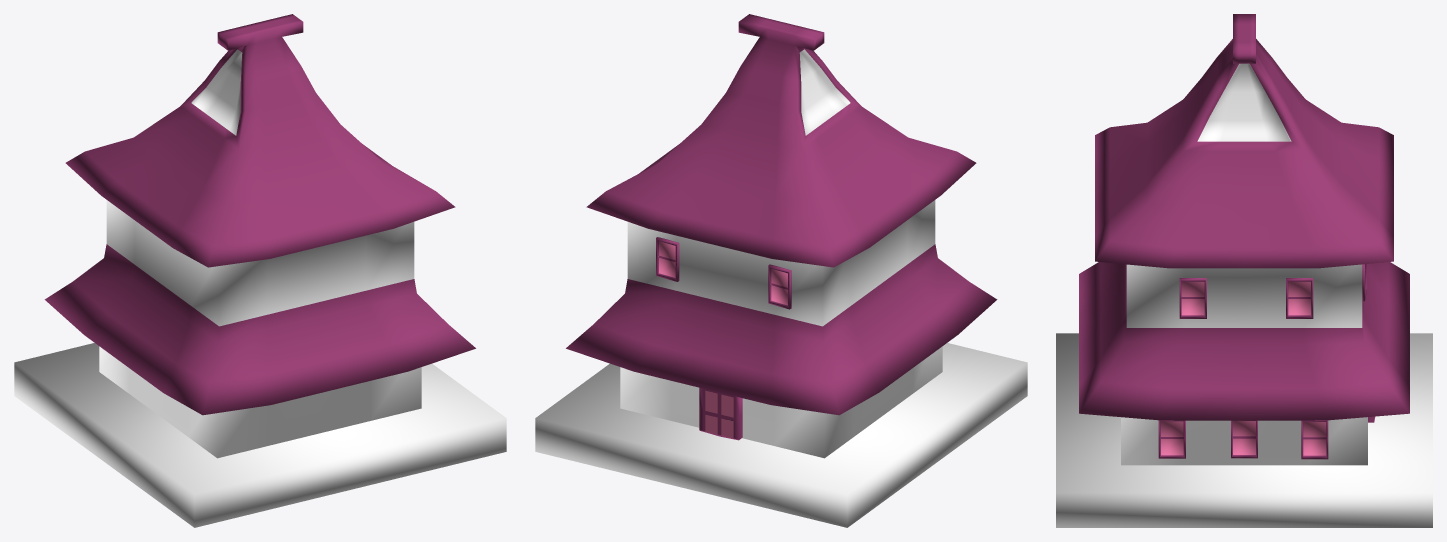
File: japanesehouse2.fbx
3 views of the same model, side by side, from view 1: azimuth 30°, elevation 25°; view 2: azimuth 150°, elevation 25°; view 3: azimuth 270°, elevation 25° (orthographic). The views are drawn at different scales.
Visible parts, largest first — view 1: Cube; view 2: Cube, Cube.002, Cube.001, Cube.008, Cube.009; view 3: Cube, Cube.006, Cube.007, Cube.005, Cube.004, Cube.003.
Part boxes in pixels (box(x1,y1,x2,y2)): Cube: box(14, 14, 506, 527); Cube: box(535, 14, 1027, 527); Cube.002: box(699, 387, 742, 439); Cube.001: box(705, 390, 733, 438); Cube.008: box(768, 264, 791, 309); Cube.009: box(656, 237, 679, 281); Cube: box(1056, 14, 1432, 527); Cube.006: box(1286, 278, 1313, 318); Cube.007: box(1179, 278, 1206, 318); Cube.005: box(1301, 420, 1328, 459); Cube.004: box(1158, 420, 1185, 458); Cube.003: box(1231, 420, 1257, 458).
Bounding box in the file's own units: 171 × 208 × 171.
